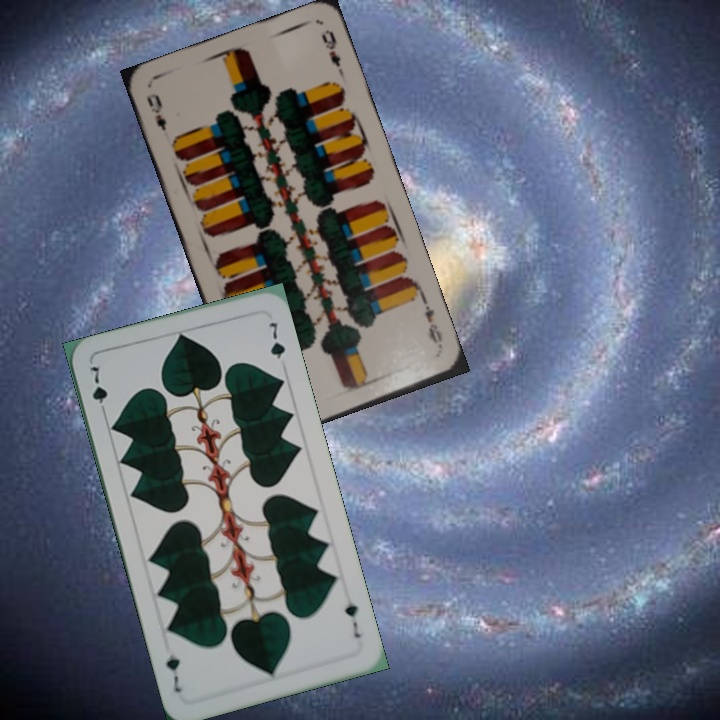E9: (418, 296, 446, 354), (142, 89, 169, 134)
G7: (85, 362, 110, 419), (340, 598, 363, 641)
